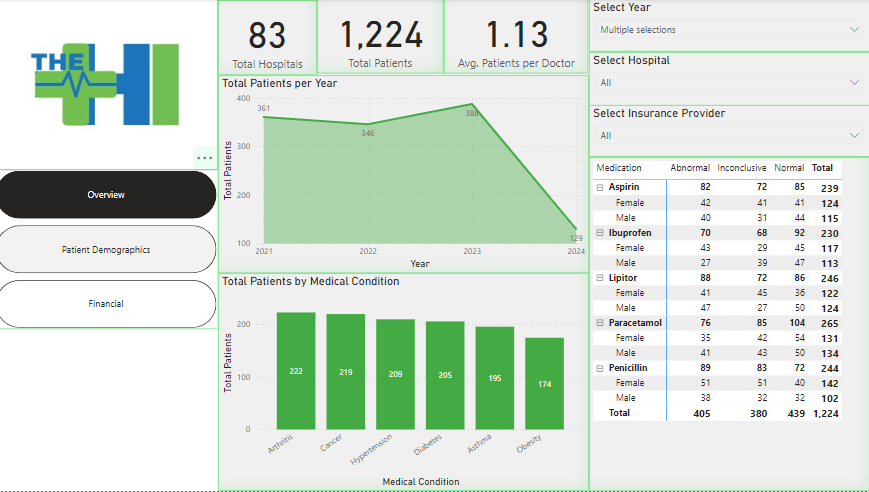

The dashboard page shown, as its layout file describes it:
{"tool":"powerbi","page":{"name":"Overview","canvas":[1280,720],"ordinal":0},"visuals":[{"type":"card","fields":{"Values":["Count(healthcare_dataset.Hospital)"]},"box":[326.3,1.5,144.9,109.8],"z":0},{"type":"card","fields":{"Values":["_Measure.Total Patients"]},"box":[471.9,0,184.9,109.2],"z":1000},{"type":"card","fields":{"Values":["_Measure.Average Patient Per Doctor"]},"box":[656.7,0,211.3,109.2],"z":2000},{"type":"columnChart","fields":{"Category":["healthcare_dataset.Medical Condition"],"Y":["_Measure.Total Patients"]},"box":[326.3,401,542.9,319],"z":3000},{"type":"pivotTable","fields":{"Rows":["healthcare_dataset.Medication","healthcare_dataset.Gender"],"Columns":["healthcare_dataset.Test Results"],"Values":["_Measure.Total Patients"]},"box":[869.3,231.2,411.2,488.8],"z":4000},{"type":"areaChart","title":"Total Patients per Year","fields":{"Category":["healthcare_dataset.Date of Admission.Variation.Date Hierarchy.Year","healthcare_dataset.Date of Admission.Variation.Date Hierarchy.Quarter","healthcare_dataset.Date of Admission.Variation.Date Hierarchy.Month","healthcare_dataset.Date of Admission.Variation.Date Hierarchy.Day"],"Y":["_Measure.Total Patients"]},"box":[326.3,111.2,542.9,289.8],"z":5000},{"type":"image","box":[0,0,325.9,250.3],"z":6000},{"type":"pageNavigator","box":[0,250.3,325.9,233.5],"z":7000},{"type":"slicer","title":"Select Year","fields":{"Values":["healthcare_dataset.Date of Admission.Variation.Date Hierarchy.Year"]},"box":[869.3,0,412.5,77.5],"z":8000,"group":"g1"},{"type":"slicer","title":"Select Hospital","fields":{"Values":["healthcare_dataset.Hospital"]},"box":[869.3,77.5,412.5,85.9],"z":9000,"group":"g1"},{"type":"slicer","title":"Select Insurance Provider","fields":{"Values":["healthcare_dataset.Insurance Provider"]},"box":[869.3,154.9,412.5,75.8],"z":10000,"group":"g1"},{"type":"group","id":"g1","title":"Group 1","box":[869.3,0,411.2,231.2],"z":10001}]}

Visuals, with their boxes on the page's 1280x720 design canvas (x1, y1, x2, y2). These are canvas units, not pixel positions in the 869x492 screenshot, which may show the page scaled, cropped or inside an application window:
card - Count(healthcare_dataset.Hospital): (x1=326, y1=2, x2=471, y2=111)
card - _Measure.Total Patients: (x1=472, y1=0, x2=657, y2=109)
card - _Measure.Average Patient Per Doctor: (x1=657, y1=0, x2=868, y2=109)
columnChart - healthcare_dataset.Medical Condition x _Measure.Total Patients: (x1=326, y1=401, x2=869, y2=720)
pivotTable - healthcare_dataset.Medication x healthcare_dataset.Gender: (x1=869, y1=231, x2=1280, y2=720)
"Total Patients per Year" areaChart: (x1=326, y1=111, x2=869, y2=401)
image: (x1=0, y1=0, x2=326, y2=250)
pageNavigator: (x1=0, y1=250, x2=326, y2=484)
"Select Year" slicer: (x1=869, y1=0, x2=1282, y2=78)
"Select Hospital" slicer: (x1=869, y1=78, x2=1282, y2=163)
"Select Insurance Provider" slicer: (x1=869, y1=155, x2=1282, y2=231)
"Group 1" group: (x1=869, y1=0, x2=1280, y2=231)
